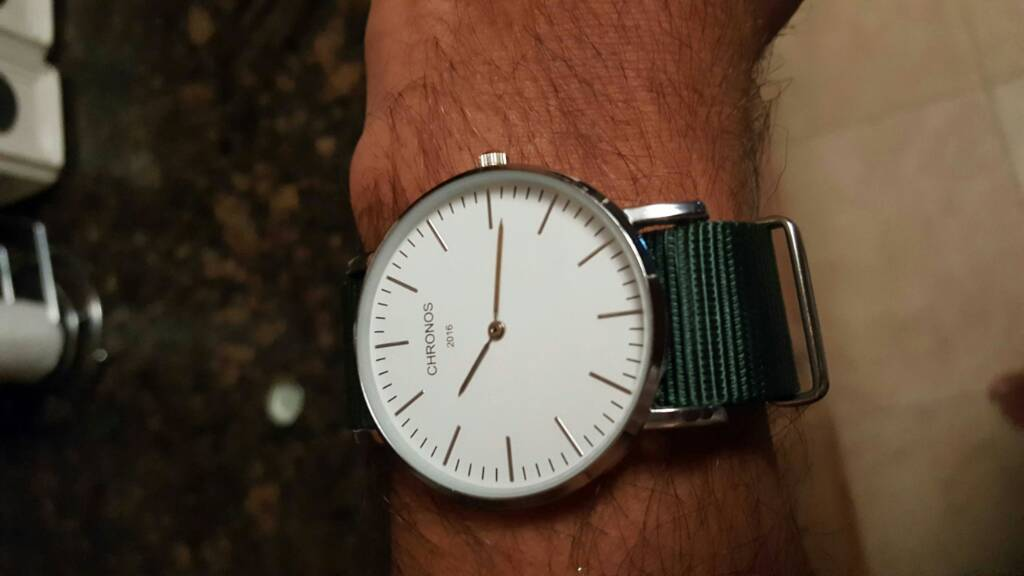clock: (357, 170, 651, 497)
